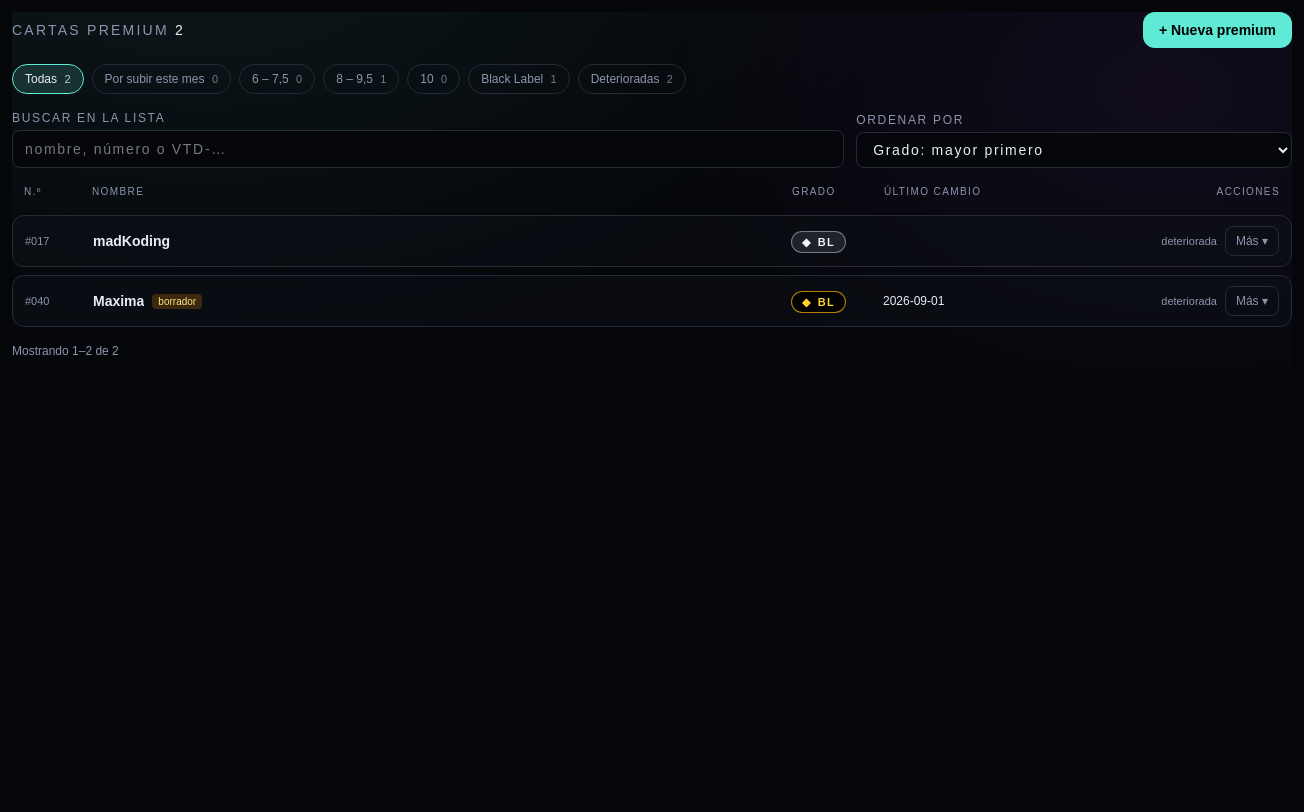
Scenario: PremiumManager › un código VTD-… (el de la nota de PayPal) encuentra la ficha por su número de dex
This screenshot has width=1304, height=812.
Click the button "+ Nueva premium" at coordinates (1217, 30), box [1143,12,1292,48]
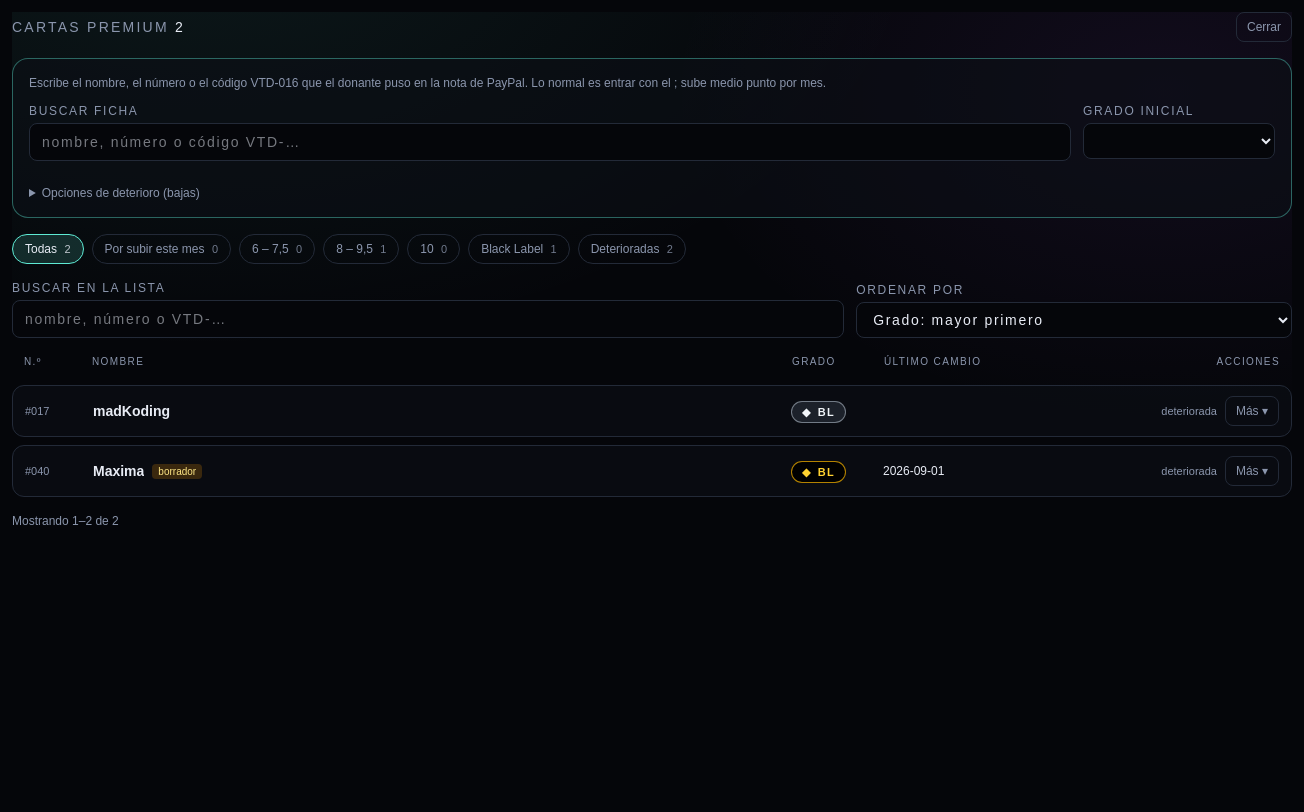
Type "VTD-050" into the field named "Buscar ficha para hacerla premium" at coordinates (550, 142), box [29,123,1071,161]
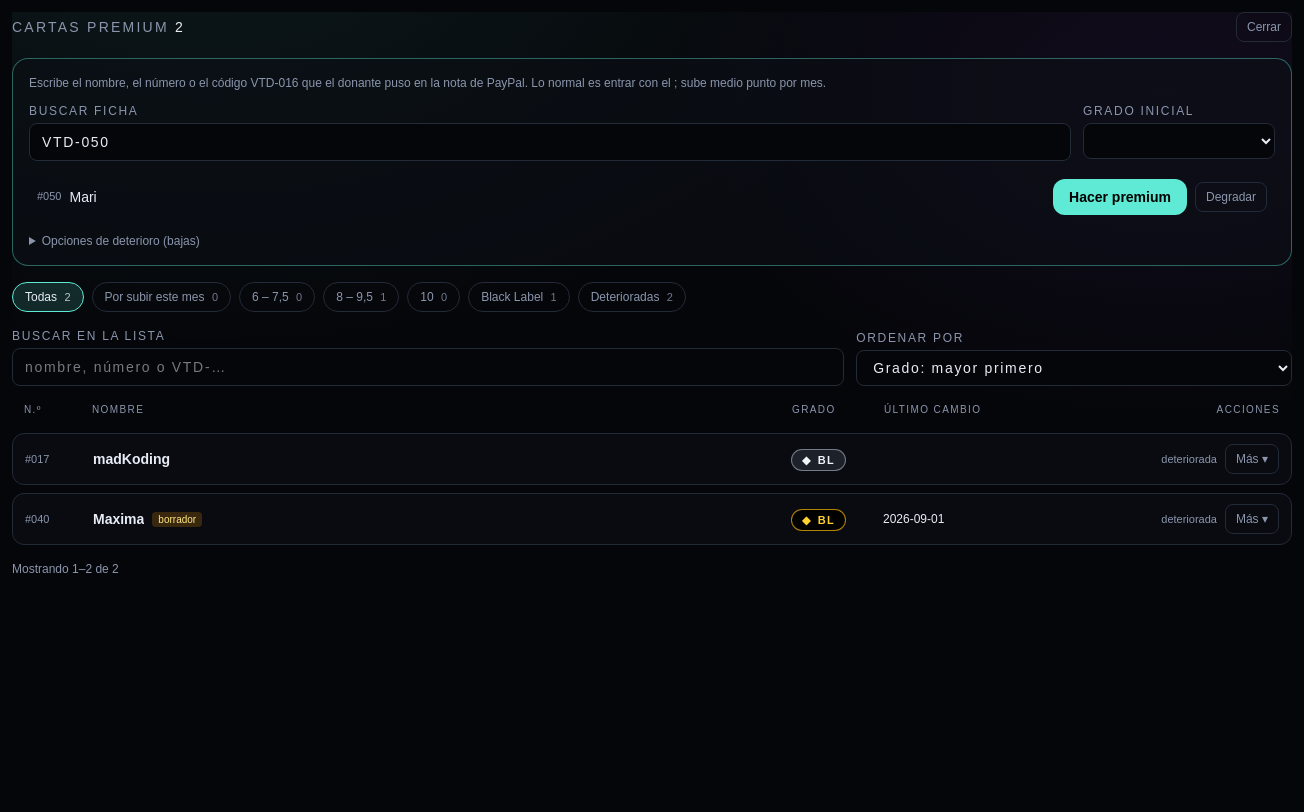
Now the text "Mari" is shown, box [70,189,97,205]
